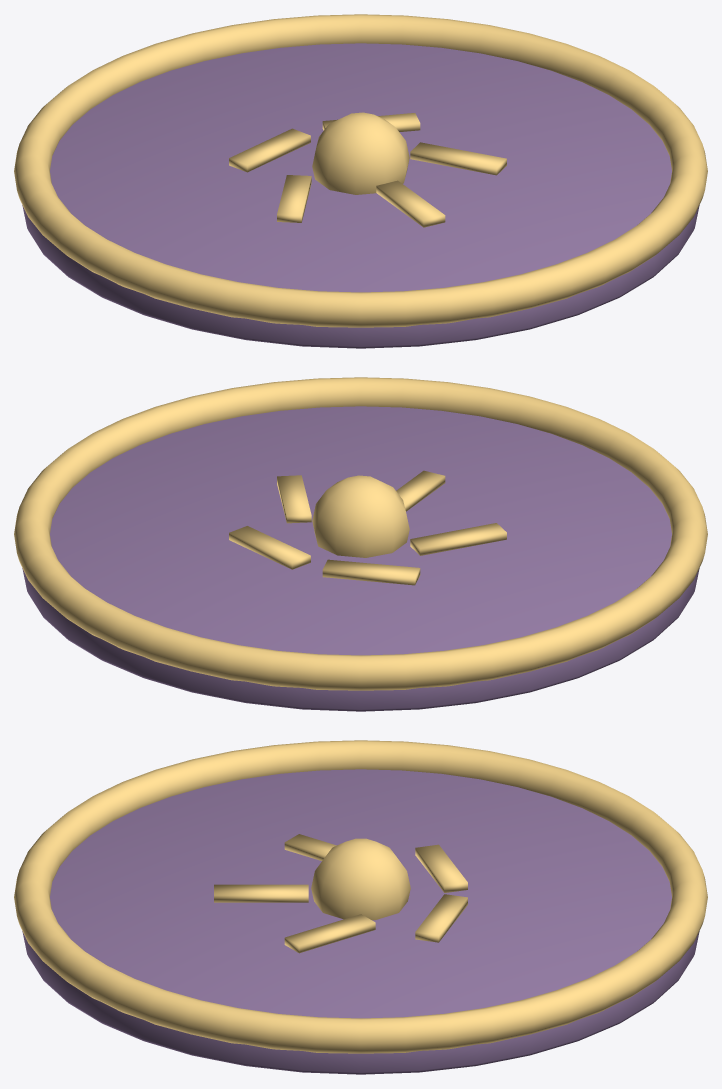
The model's file is opera_medallion.glb.
3 renders of one model, top to bottom at view 1: azimuth 30°, elevation 25°; view 2: azimuth 150°, elevation 25°; view 3: azimuth 270°, elevation 25°, orthographic.
Parts seen in each view (by area): view 1: disc, halo, star_heart, star_arm.003, star_arm.004, star_arm, star_arm.002, star_arm.001; view 2: disc, halo, star_heart, star_arm.004, star_arm.002, star_arm.001, star_arm.003, star_arm; view 3: disc, halo, star_heart, star_arm, star_arm.003, star_arm.001, star_arm.004, star_arm.002.
Part boxes in pixels (x1,y1,x2,y2): disc: (22, 43, 699, 348); halo: (14, 14, 707, 327); star_heart: (312, 112, 409, 194); star_arm.003: (410, 142, 506, 175); star_arm.004: (229, 128, 310, 172); star_arm: (376, 180, 445, 227); star_arm.002: (277, 175, 311, 222); star_arm.001: (322, 113, 420, 132); disc: (22, 406, 699, 711); halo: (14, 377, 707, 690); star_heart: (312, 475, 409, 557); star_arm.004: (322, 559, 420, 585); star_arm.002: (410, 523, 506, 555); star_arm.001: (229, 526, 310, 569); star_arm.003: (277, 475, 311, 523); star_arm: (396, 470, 445, 511); disc: (22, 769, 699, 1074); halo: (14, 740, 707, 1053); star_heart: (311, 838, 410, 920); star_arm: (214, 884, 308, 902); star_arm.003: (284, 914, 375, 953); star_arm.001: (415, 894, 467, 942); star_arm.004: (415, 844, 467, 892); star_arm.002: (284, 834, 336, 860).
Size of the model in its own units: 6.96 by 1 by 6.96.
